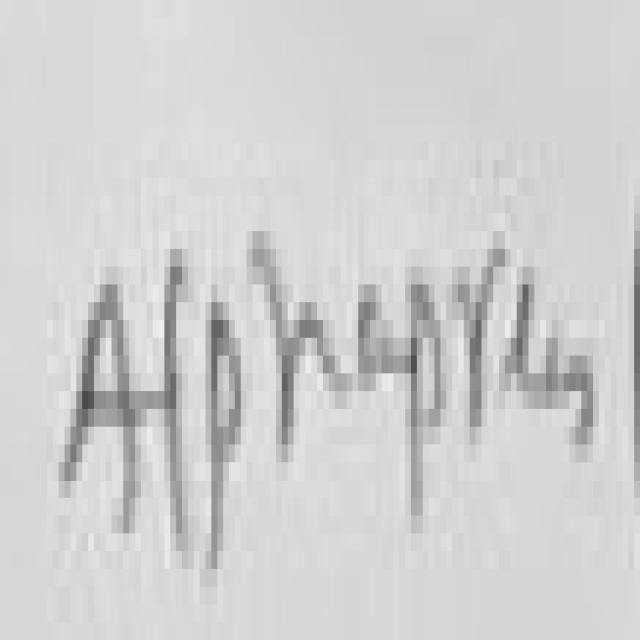A: (49, 207, 160, 615)
a: (348, 243, 404, 443)
e: (504, 248, 542, 457)
h: (245, 188, 358, 512)
l: (153, 243, 200, 601)
p: (200, 264, 248, 606), (403, 243, 451, 550)
r: (448, 196, 508, 442)
s: (560, 310, 608, 508), (538, 272, 566, 432)
